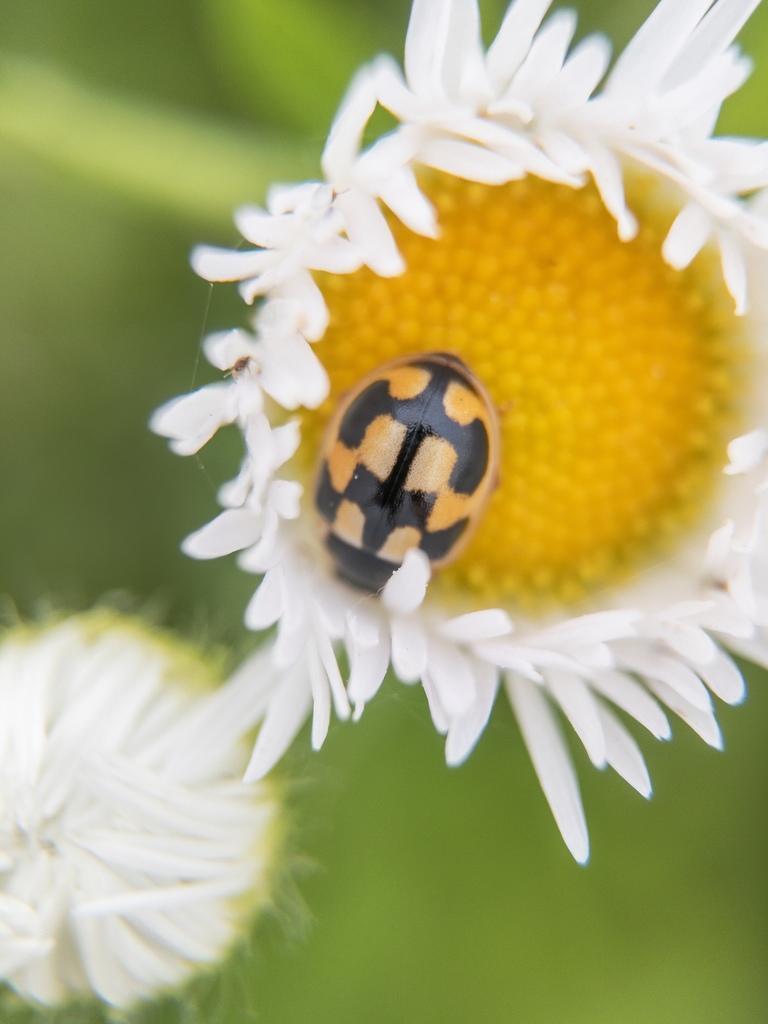ladybug: (314, 349, 509, 604)
